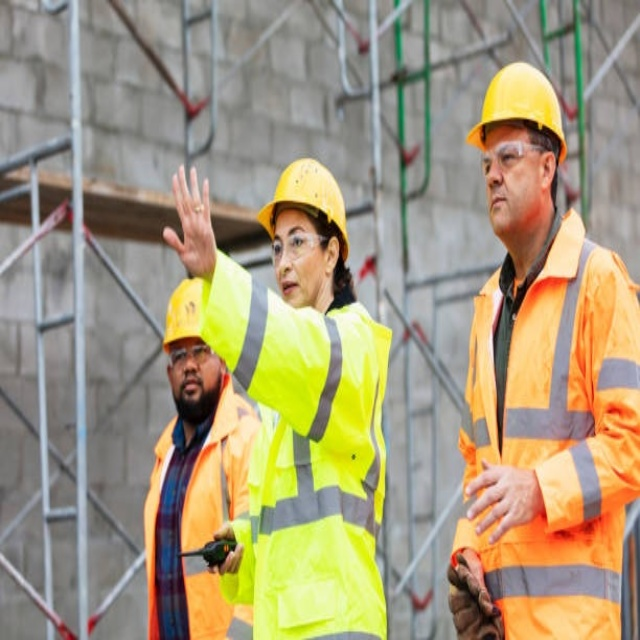Gafas: (479, 140, 551, 179), (270, 232, 329, 264), (169, 344, 213, 370)
Guantes: (447, 548, 504, 640)
Sin_guantes: (462, 455, 540, 543), (163, 163, 216, 281), (207, 523, 244, 576)
Sin_mascara: (281, 280, 299, 295), (181, 379, 200, 393), (490, 196, 507, 211)
